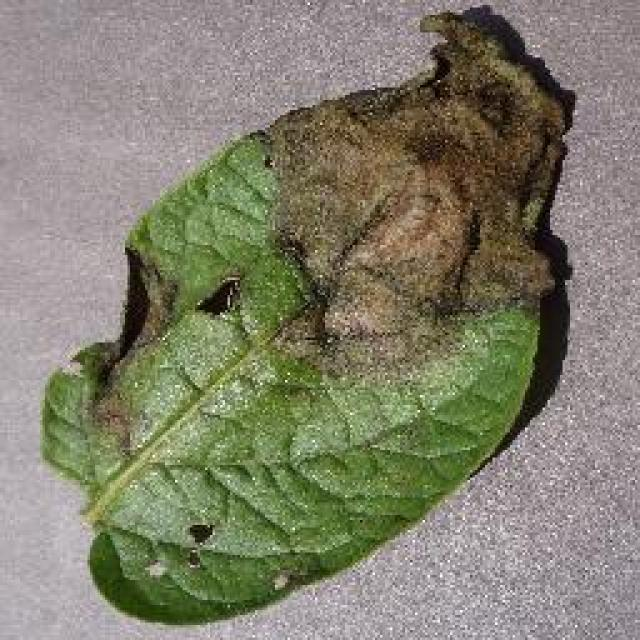Potato: (37, 3, 575, 625)
